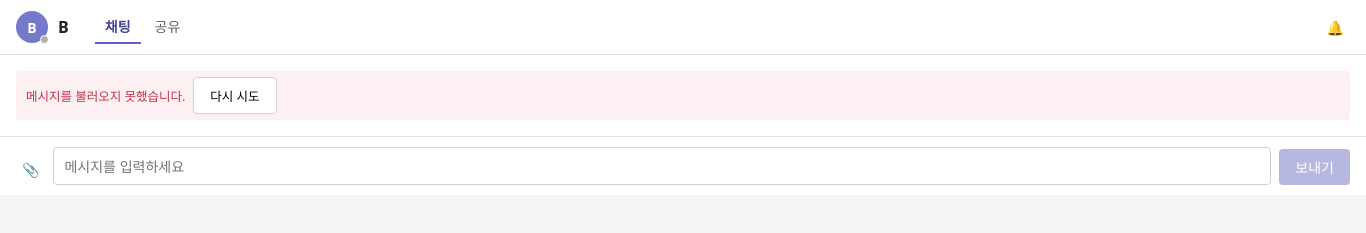
뮤테이션 실패 피드백 › 음소거 실패 시 헤더 아래 실패 문구를 보여준다
Click the button titled "음소거". click: (1335, 27)
box: [1320,12,1350,42]
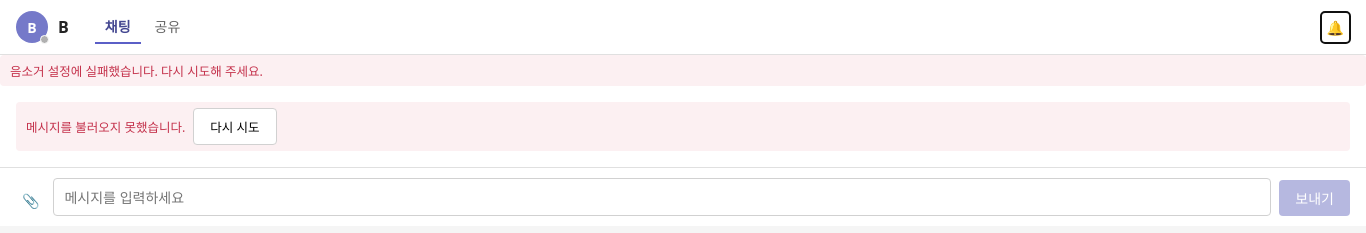
Expected: the text "음소거 설정에 실패했습니다. 다시 시도해 주세요." is shown, [10,61,263,80]
